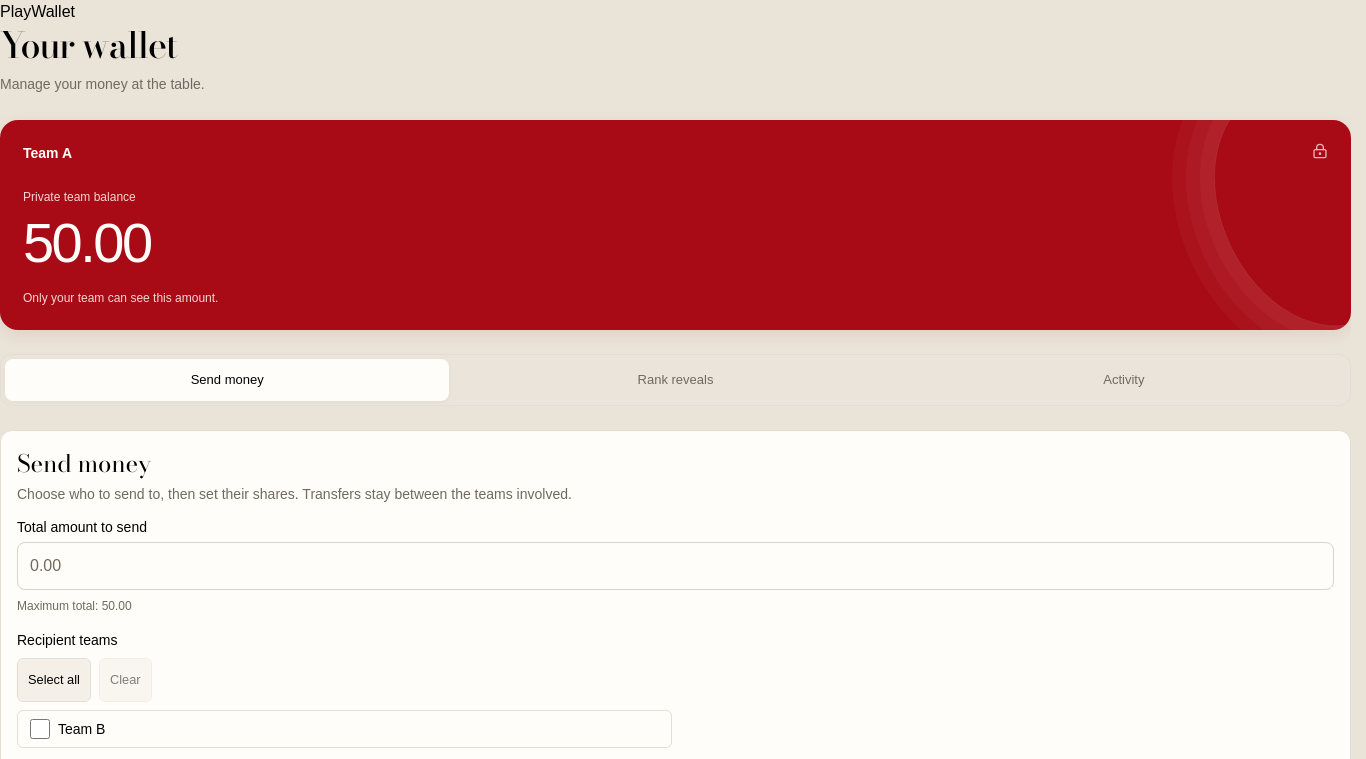
Test case: player session lifetime › closes a successful private contribution dialog to reveal the snapshot behind it
Click the button "Rank reveals" at point(675, 380), box [453,359,898,401]
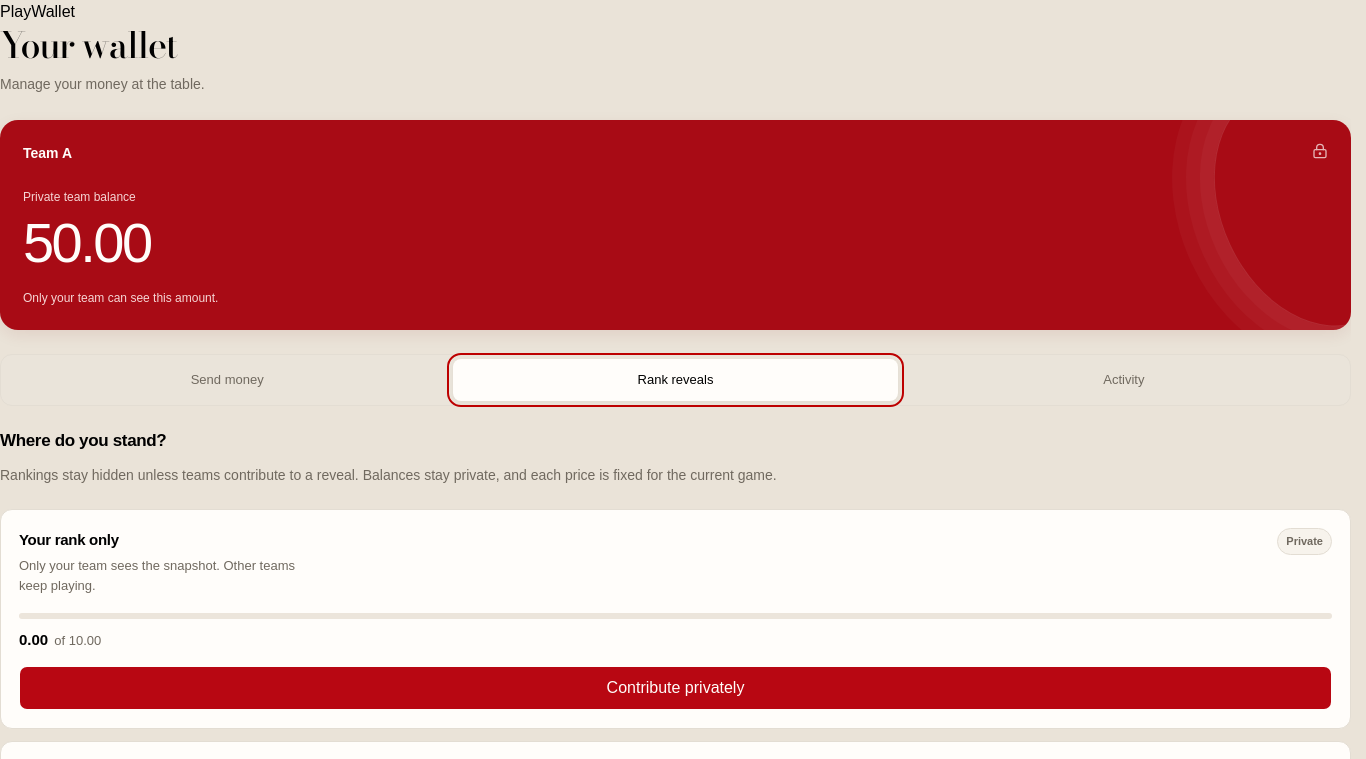
Click the button "Contribute privately" at point(676, 688), box [19,666,1332,710]
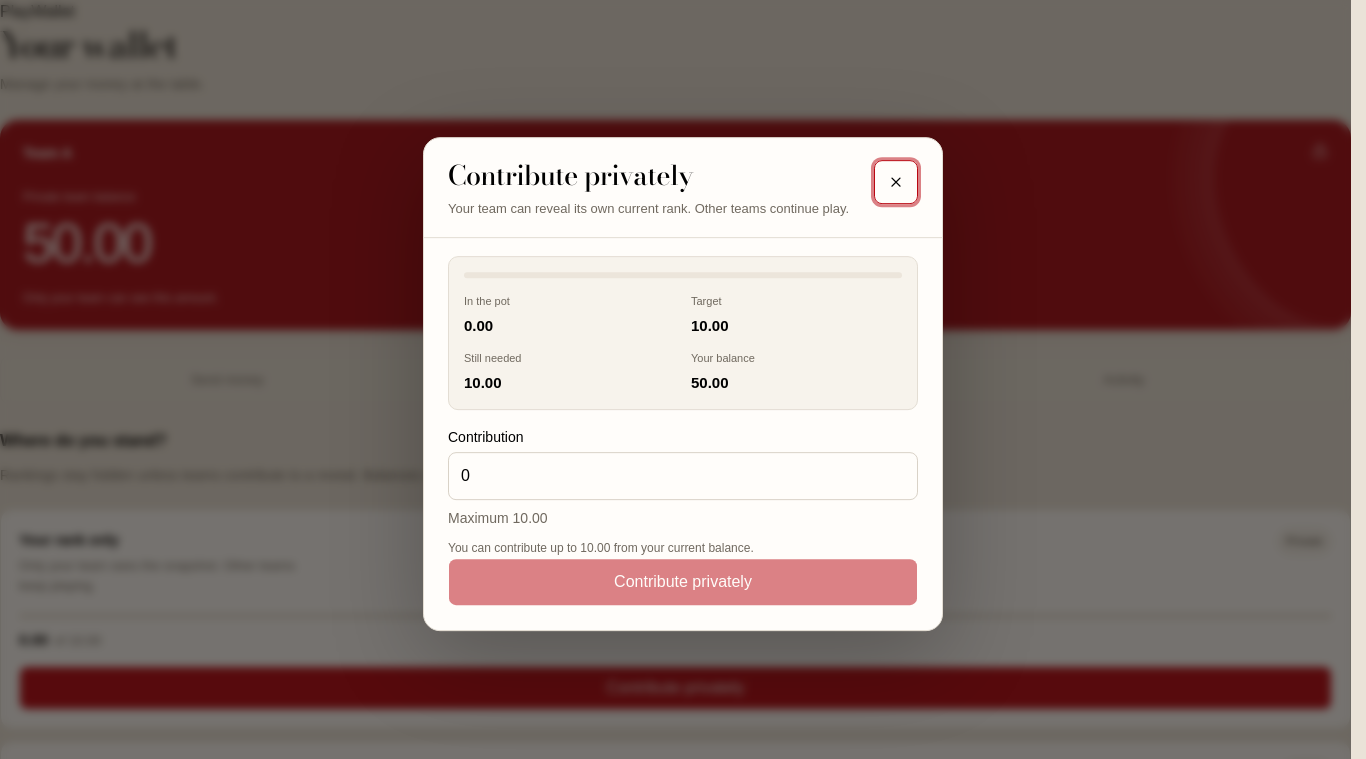
Replace the text in the field labelled "Contribution" with "10.00" at point(683, 476), box [448,452,918,500]
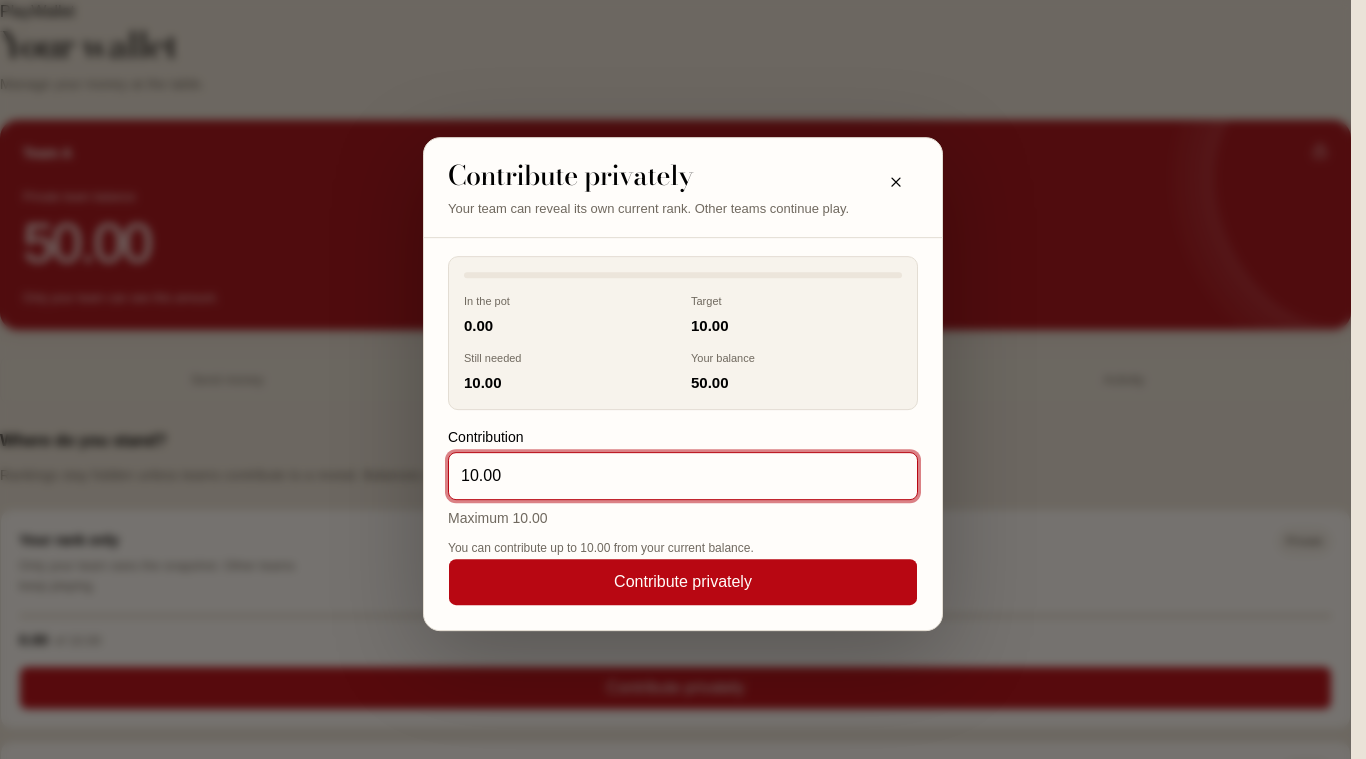
Click the button "Contribute privately" at point(683, 582), box [448,558,918,606]
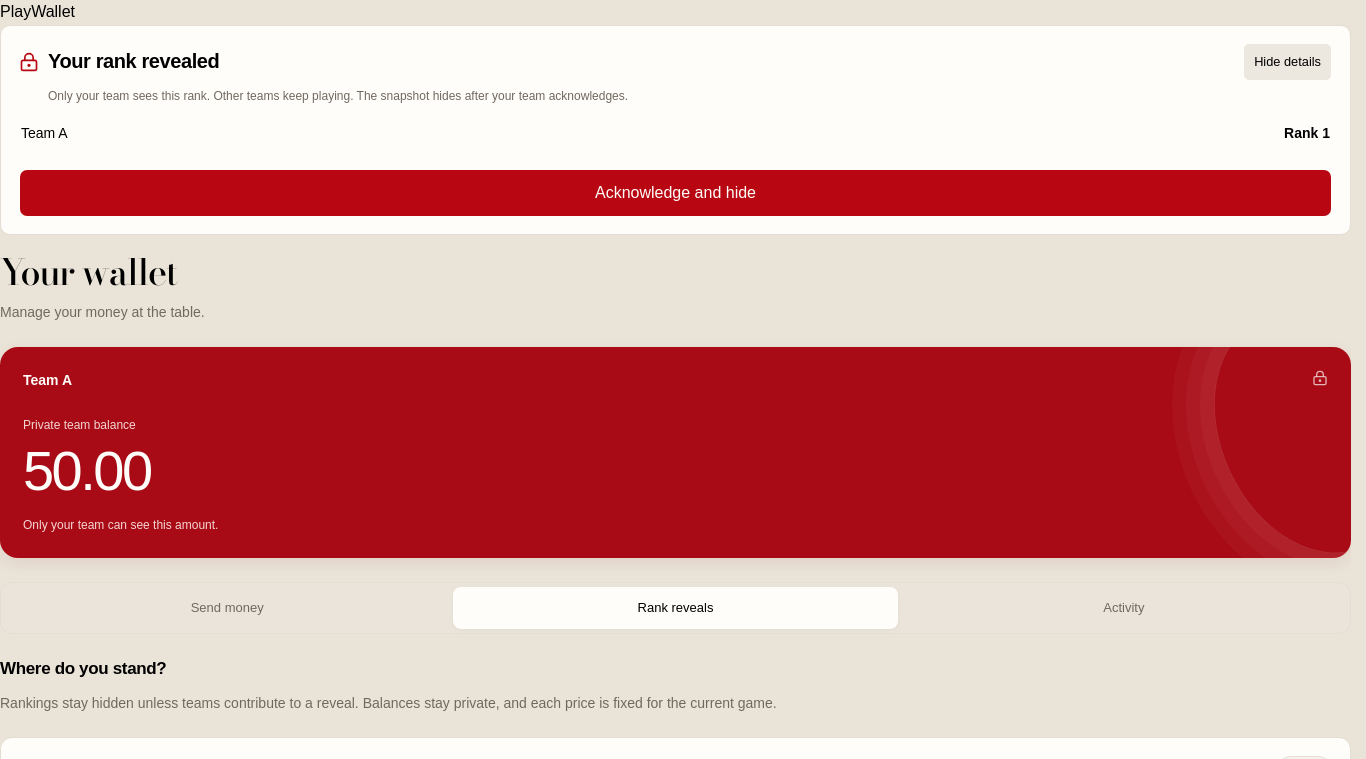
Check: the dialog "Contribute privately" is not shown
Check: the heading "Your rank revealed" is shown, box [48,48,219,75]
